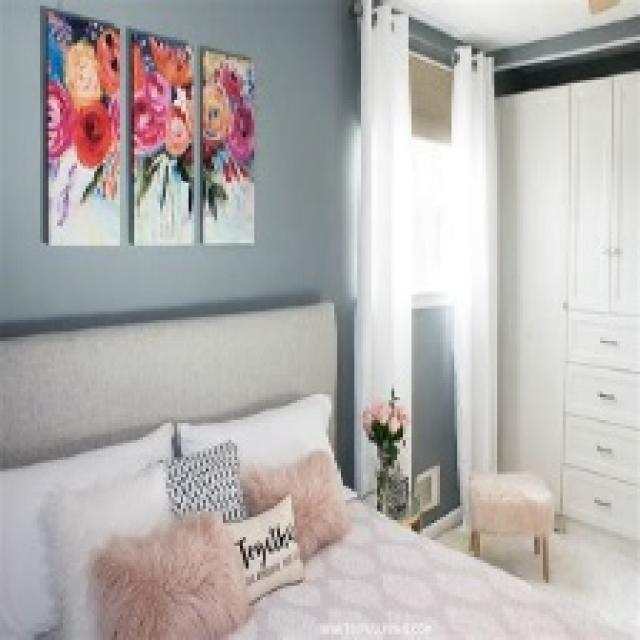Bed: (0, 297, 637, 637)
